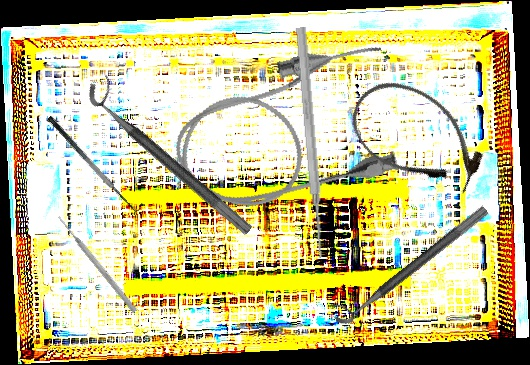Cannula: (159, 33, 415, 228), (336, 63, 499, 211)
Fixation Ring: (80, 71, 266, 237), (326, 192, 490, 330)
Pusher: (292, 26, 329, 259), (55, 214, 139, 314)
Spatula Surgical: (46, 108, 145, 217)
